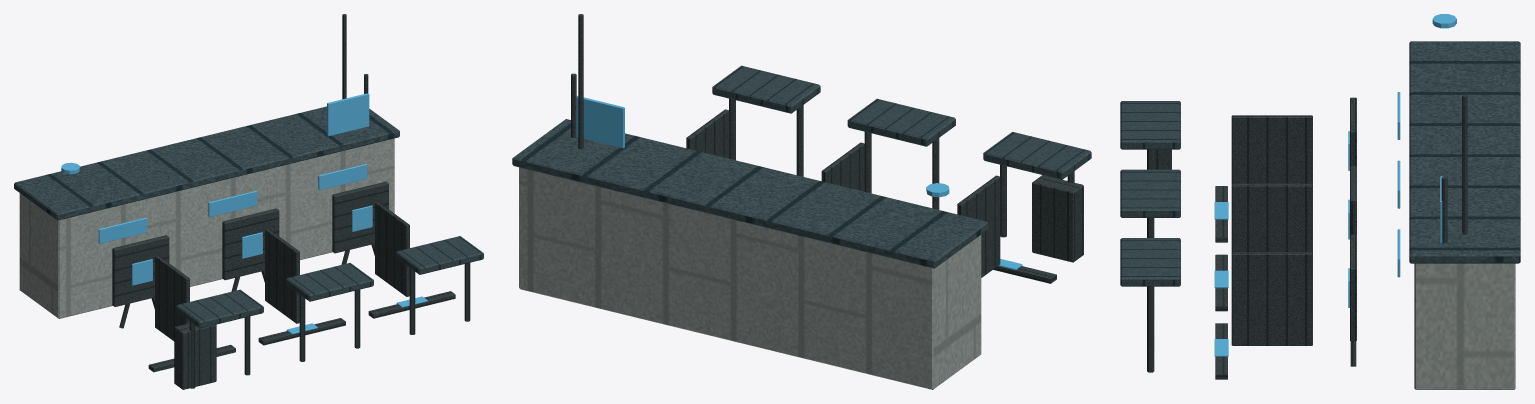
Rendered from edificio-b_000-e5-B9rq0C09.glb.
3 views of the same model, side by side, from view 1: azimuth 30°, elevation 25°; view 2: azimuth 150°, elevation 25°; view 3: azimuth 270°, elevation 25° (orthographic). The views are drawn at different scales.
Visible parts, largest first — view 1: envolvente_arqueria, team_color; view 2: envolvente_arqueria, team_color; view 3: envolvente_arqueria, team_color.
Part boxes in pixels (x1,y1,x2,y2): envolvente_arqueria: (14,14,483,389); team_color: (61,93,427,334); envolvente_arqueria: (512,14,1091,389); team_color: (576,95,1022,270); envolvente_arqueria: (1120,41,1520,389); team_color: (1214,14,1456,356).
Size of the model in its own units: 50 by 30.09 by 39.5.
2 materials, 1 textured.
